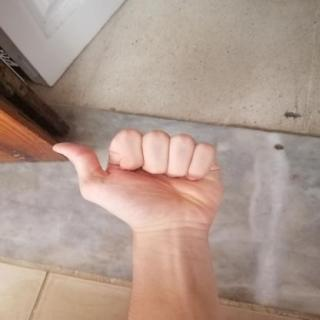DAD: (41, 121, 233, 238)
